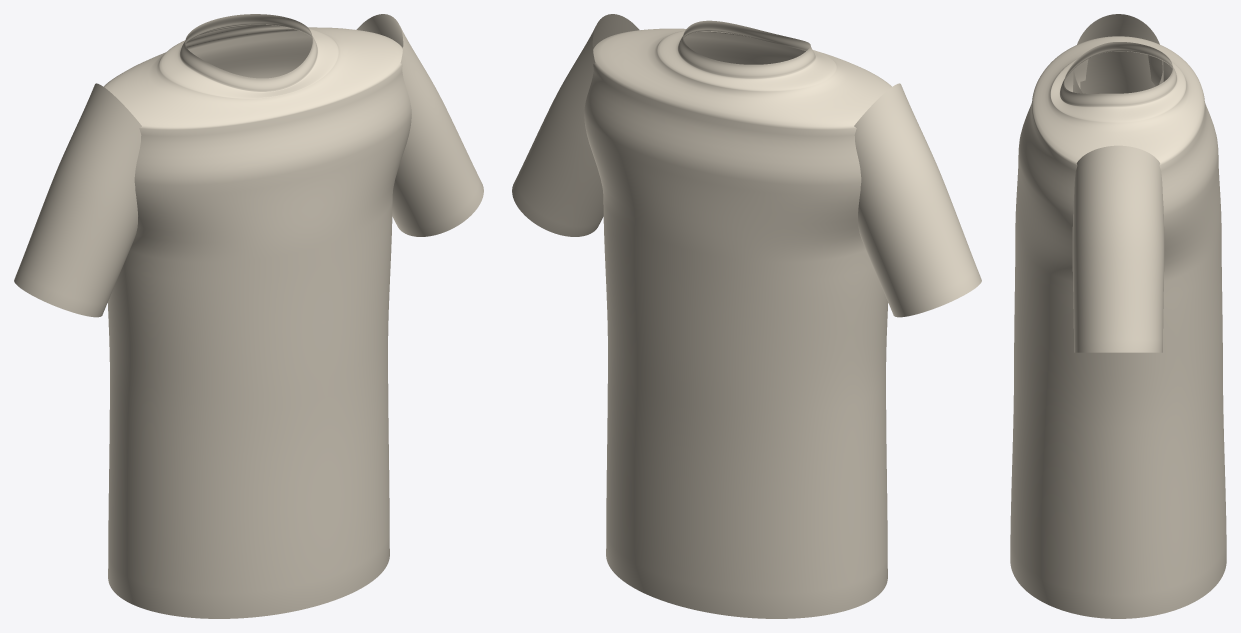
The model's file is demo-relaxed-tee--ecru--m.r2.glb.
3 renders of one model, left to right at view 1: azimuth 30°, elevation 25°; view 2: azimuth 150°, elevation 25°; view 3: azimuth 270°, elevation 25°, orthographic. The views are drawn at different scales.
Visible parts, largest first — view 1: demo-relaxed-tee--ecru--m; view 2: demo-relaxed-tee--ecru--m; view 3: demo-relaxed-tee--ecru--m.
Boxes of the visible parts, bbox=[...] form: demo-relaxed-tee--ecru--m: bbox=[14, 14, 483, 618]; demo-relaxed-tee--ecru--m: bbox=[512, 14, 981, 618]; demo-relaxed-tee--ecru--m: bbox=[1010, 14, 1226, 618].
Size of the model in its own units: 0.6577 by 0.726 by 0.289.
